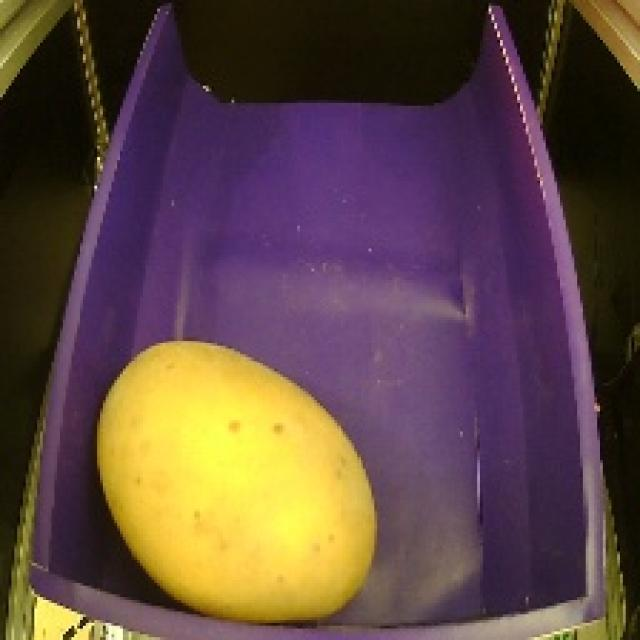full_potato: (68, 324, 386, 632)
